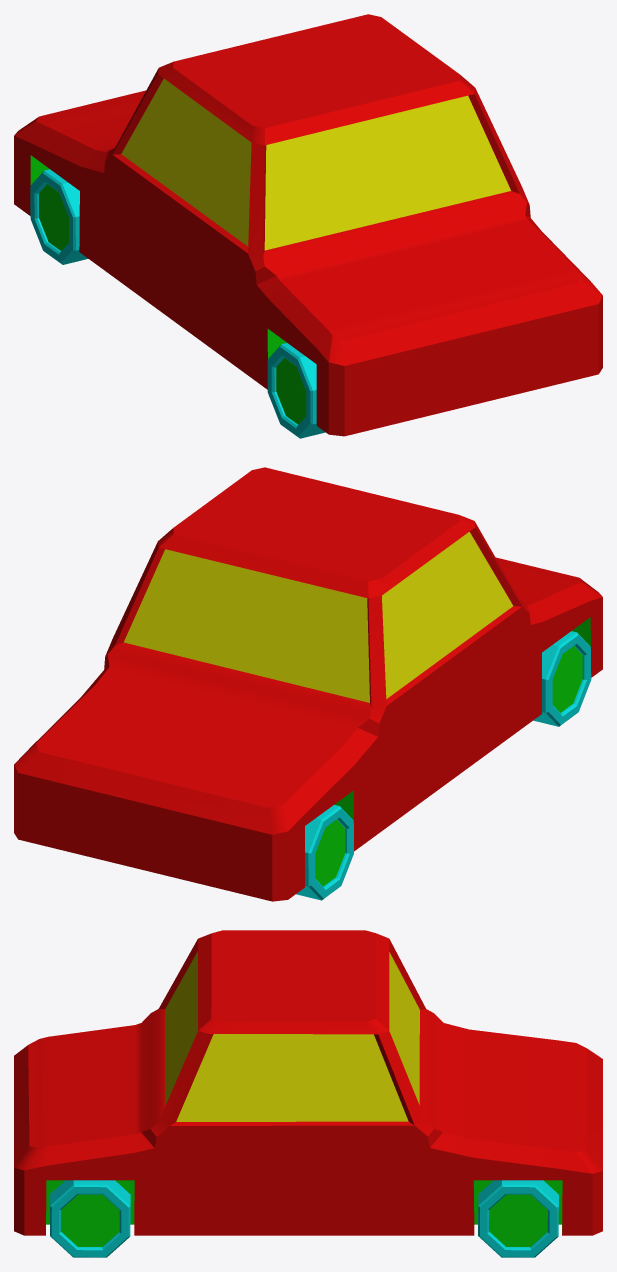
The model's file is WreckedCar.fbx.
3 views of the same model, one above another, from view 1: azimuth 30°, elevation 25°; view 2: azimuth 150°, elevation 25°; view 3: azimuth 270°, elevation 25° (orthographic). The views are drawn at different scales.
Visible parts, largest first — view 1: WreckedCarA; view 2: WreckedCarA; view 3: WreckedCarA.
Part boxes in pixels (x1=…): WreckedCarA: x1=14, y1=14, x2=602, y2=438; WreckedCarA: x1=14, y1=467, x2=602, y2=901; WreckedCarA: x1=14, y1=930, x2=602, y2=1257.
Size of the model in its own units: 1.81 by 1.51 by 3.64.
